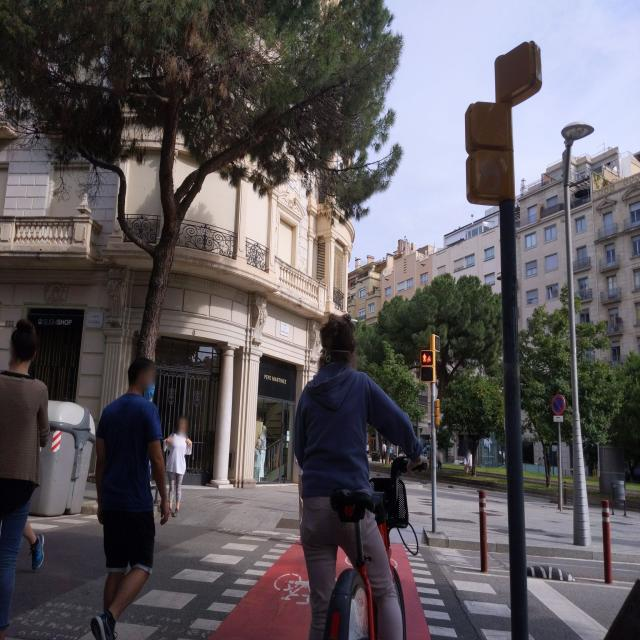forb_stopping: (551, 394, 566, 417)
